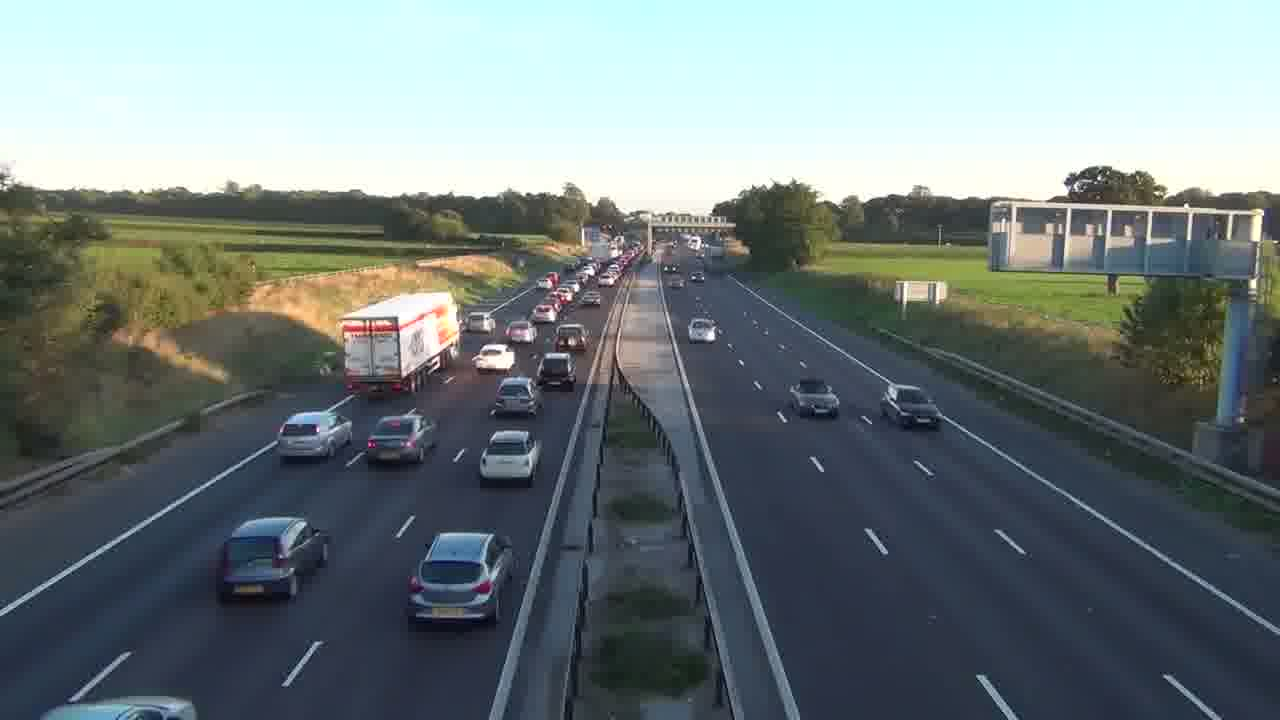bus: (339, 291, 461, 398)
car: (404, 530, 516, 632), (215, 514, 331, 602), (276, 409, 353, 462), (366, 410, 438, 465), (478, 428, 543, 486), (880, 384, 941, 429), (788, 378, 841, 419), (492, 376, 542, 416), (535, 351, 577, 392), (473, 343, 516, 374), (688, 317, 718, 343)
